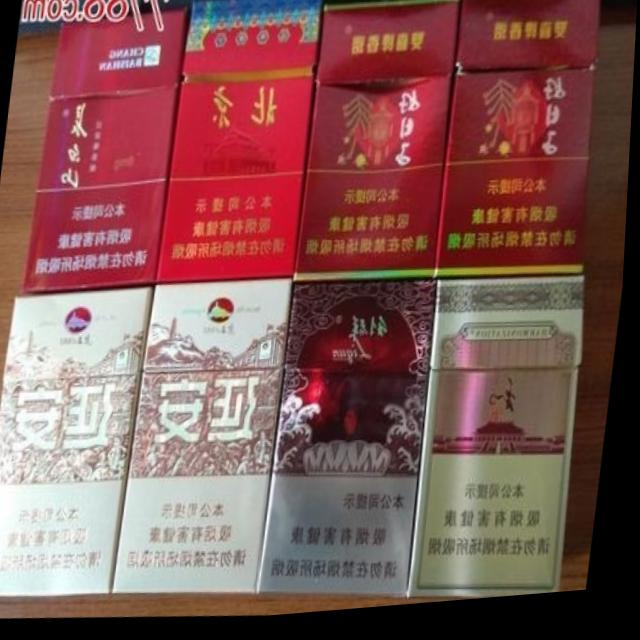box: (261, 286, 441, 606), (117, 283, 297, 601), (414, 286, 589, 606), (0, 289, 156, 599), (160, 0, 325, 288), (438, 0, 601, 286), (25, 10, 189, 294), (297, 3, 459, 287)
